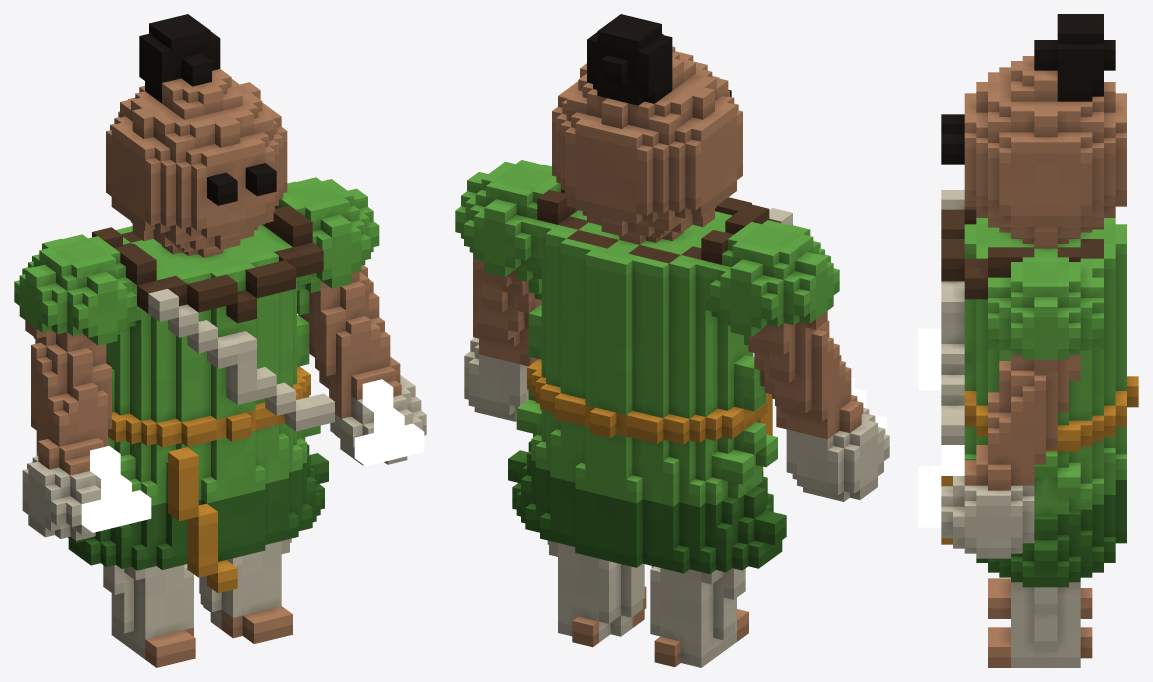
The model's file is u_moine.glb.
3 views of the same model, side by side, from view 1: azimuth 30°, elevation 25°; view 2: azimuth 150°, elevation 25°; view 3: azimuth 270°, elevation 25° (orthographic). The views are drawn at different scales.
Visible parts, largest first — view 1: moine_body, moine_glow; view 2: moine_body; view 3: moine_body, moine_glow.
Boxes of the visible parts, box(x1,y1,x2,y2) form: moine_body: box(14, 14, 426, 667); moine_glow: box(81, 379, 424, 532); moine_body: box(455, 14, 889, 667); moine_body: box(941, 14, 1138, 667); moine_glow: box(918, 328, 964, 527).
Bounding box in the file's own units: 0.95 × 1.45 × 0.475.
